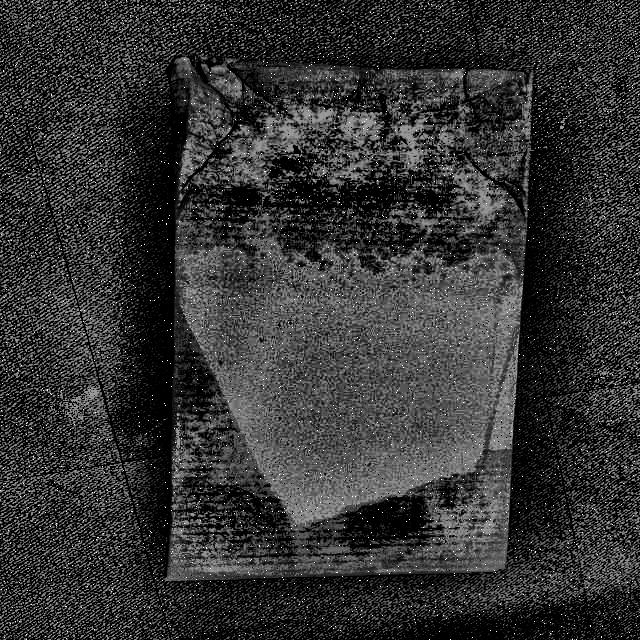box: (154, 44, 547, 591)
wet: (167, 289, 518, 580), (176, 64, 532, 252)
